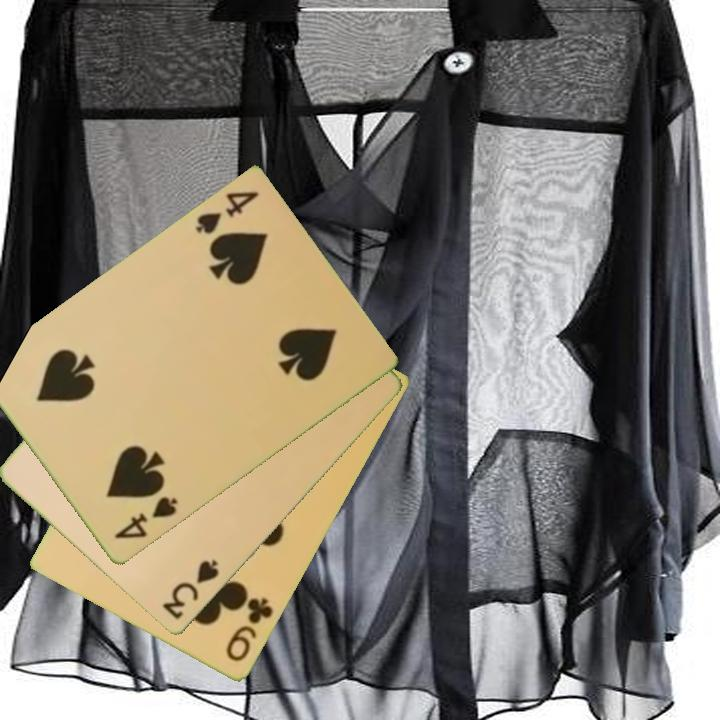3s: (159, 556, 222, 623)
4s: (110, 493, 181, 543), (191, 188, 262, 238)
9c: (222, 594, 276, 666)
